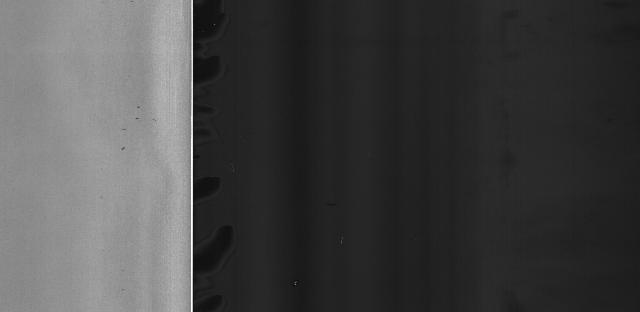inclusion: (132, 102, 146, 122), (116, 123, 129, 136), (115, 143, 128, 154)
